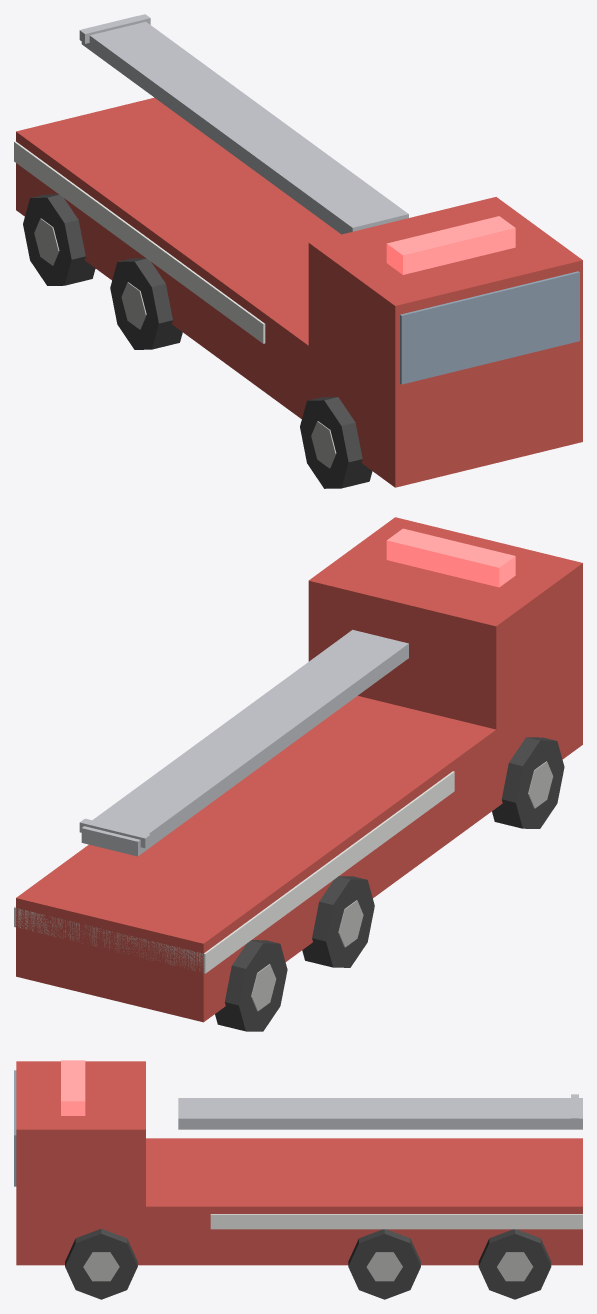
The model's file is fire_truck.glb.
The picture shows the model from 3 angles, top to bottom: view 1: azimuth 30°, elevation 25°; view 2: azimuth 150°, elevation 25°; view 3: azimuth 270°, elevation 25°; orthographic projection. The views are drawn at different scales.
Parts seen in each view (by area): view 1: fire_truck; view 2: fire_truck; view 3: fire_truck.
Part boxes in pixels (x1=…): fire_truck: x1=14, y1=14, x2=582, y2=488; fire_truck: x1=14, y1=517, x2=582, y2=1031; fire_truck: x1=14, y1=1060, x2=582, y2=1299.
Bounding box in the file's own units: 2.32 × 2.45 × 7.03.
